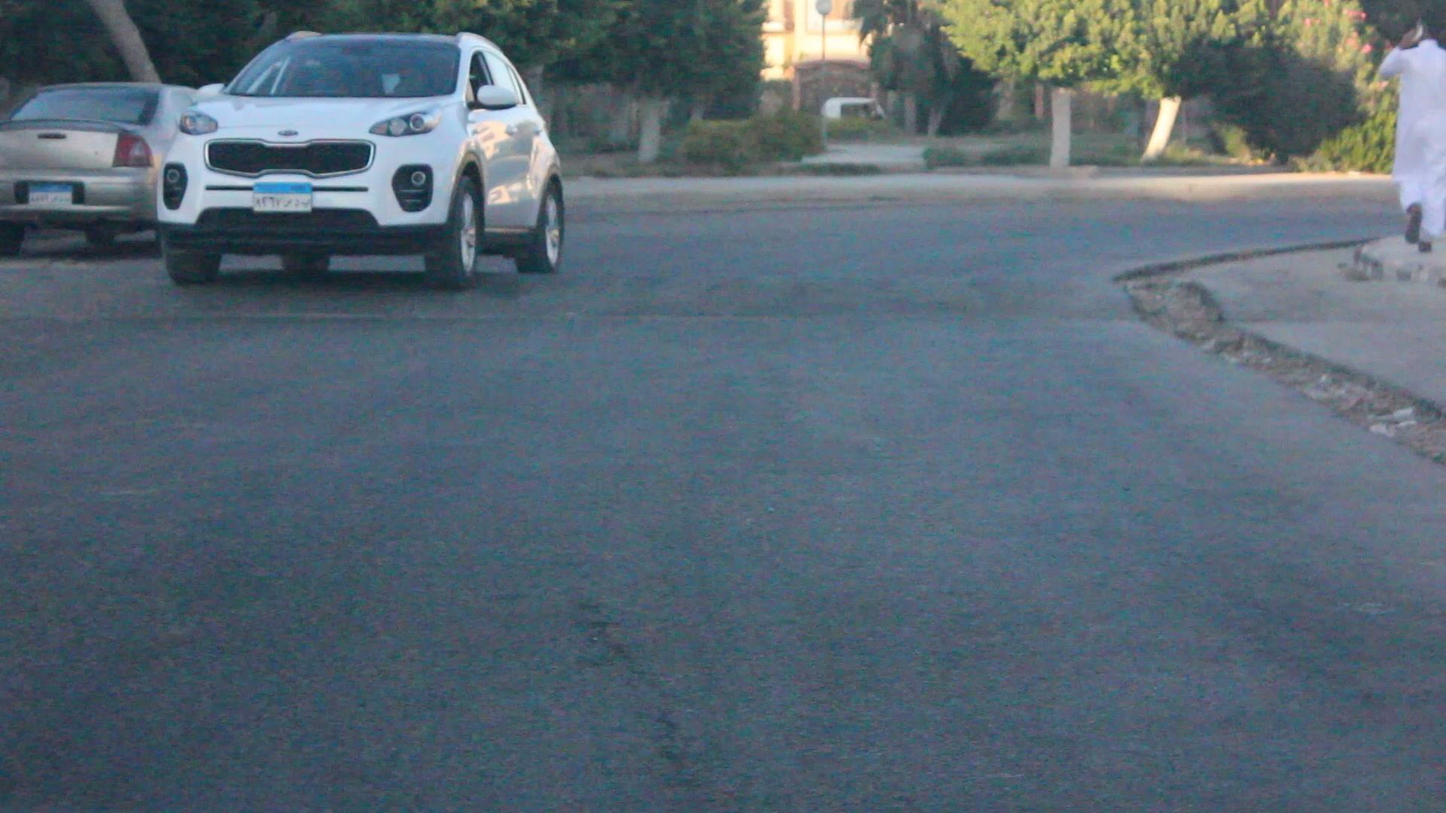Bump: (8, 263, 1139, 329)
